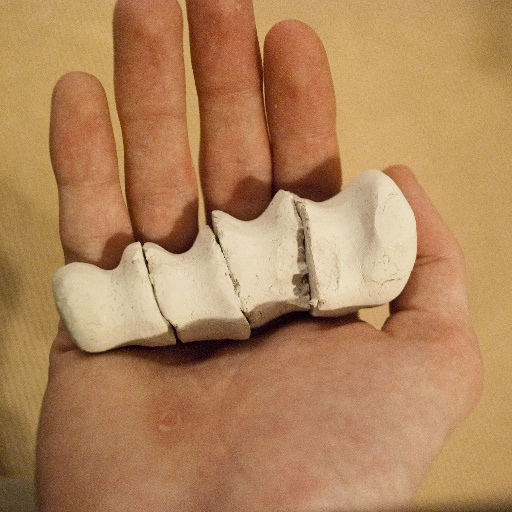hand: (31, 0, 478, 511)
